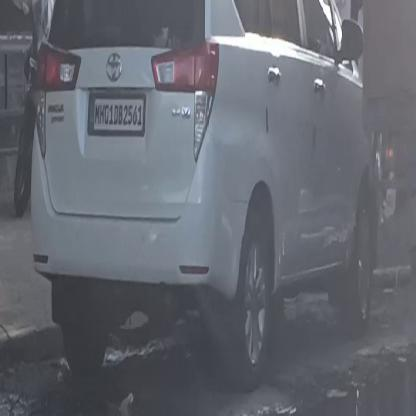license_plate: (89, 96, 143, 129)
